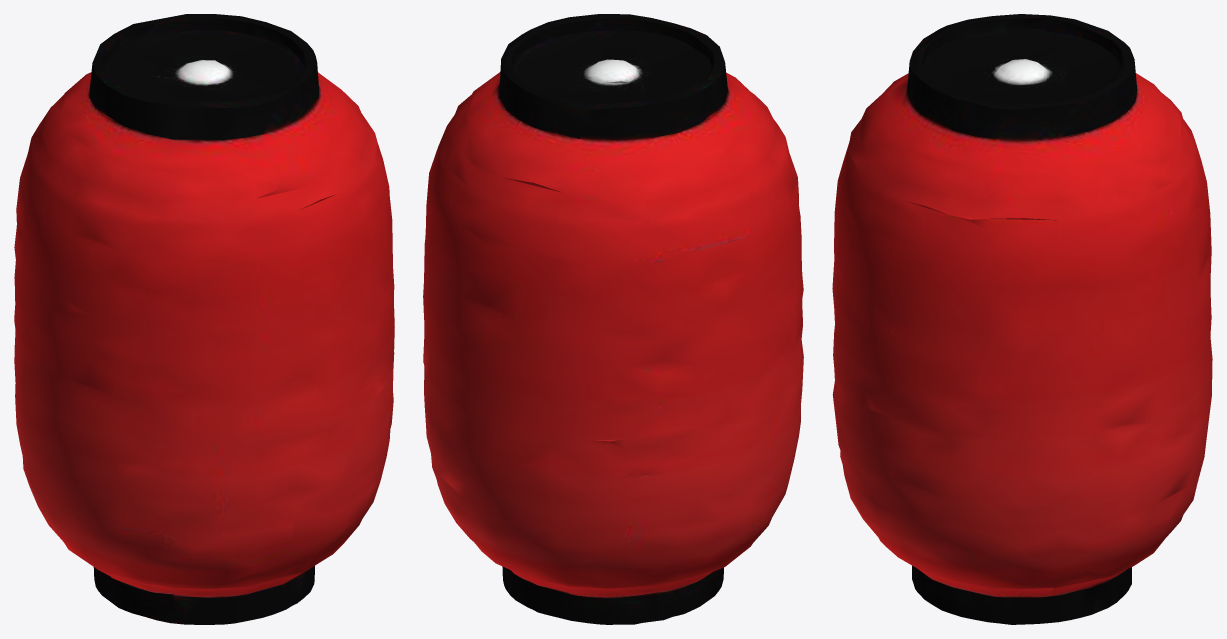
File: chochin.glb
The picture shows the model from 3 angles, left to right: view 1: azimuth 30°, elevation 25°; view 2: azimuth 150°, elevation 25°; view 3: azimuth 270°, elevation 25°; orthographic projection.
Visible parts, largest first — view 1: chochin; view 2: chochin; view 3: chochin.
Boxes of the visible parts, x1=… form: chochin: x1=14, y1=14, x2=394, y2=624; chochin: x1=423, y1=14, x2=803, y2=624; chochin: x1=832, y1=14, x2=1212, y2=624.
Size of the model in its own units: 0.4629 by 0.7 by 0.4639.
Materials: 1 (1 with a texture image).
